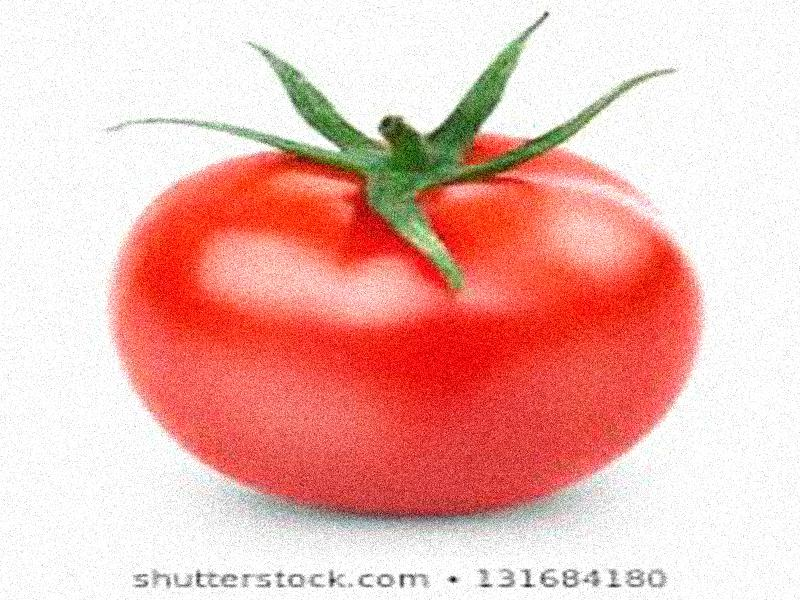Tomato: (111, 136, 704, 510)
